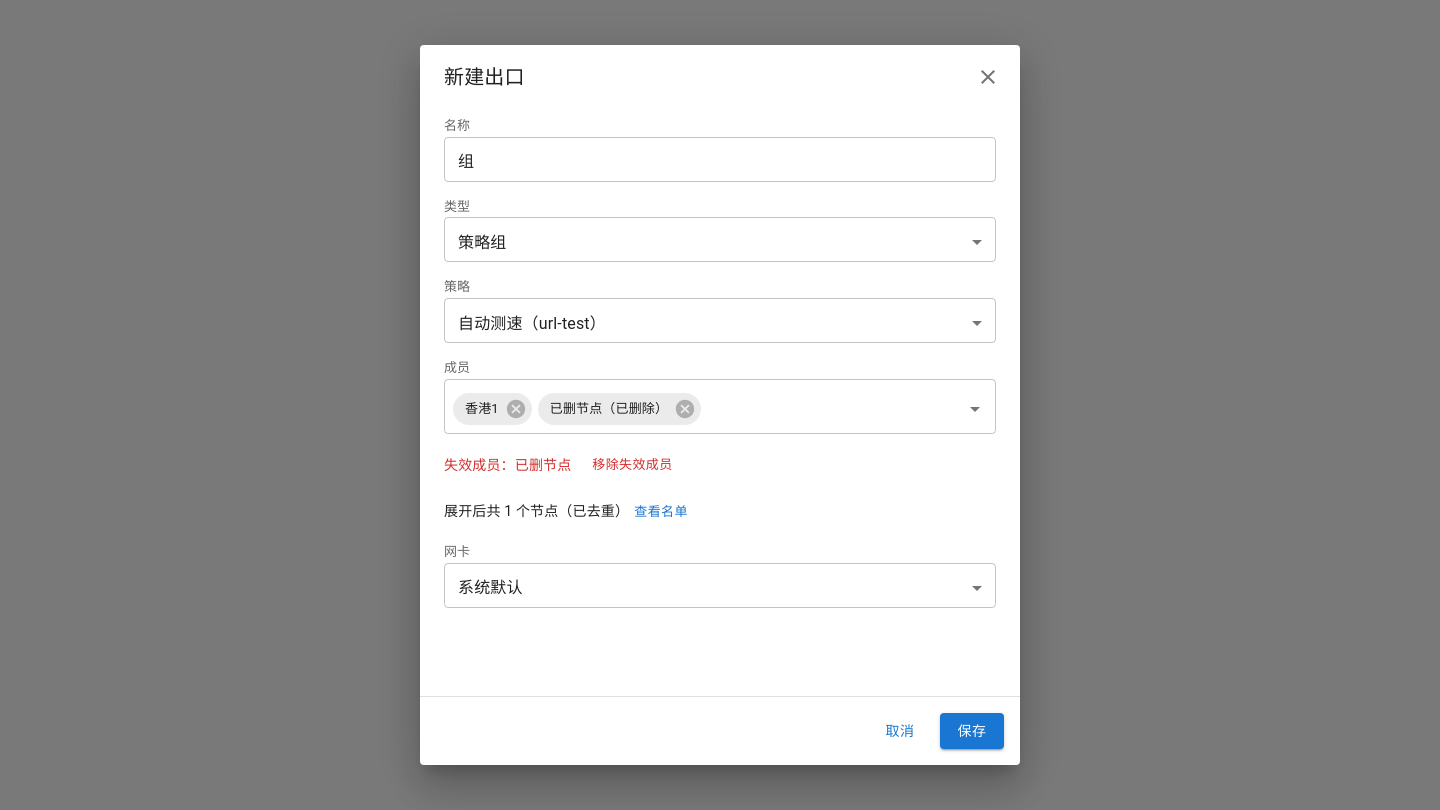
Test: ExitDialog › removes missing members on demand
Check: the text "失效成员：已删节点" is shown, box 444,455 -> 571,475
Click the button "移除失效成员".
click(632, 465)  # box 587,450 -> 678,481
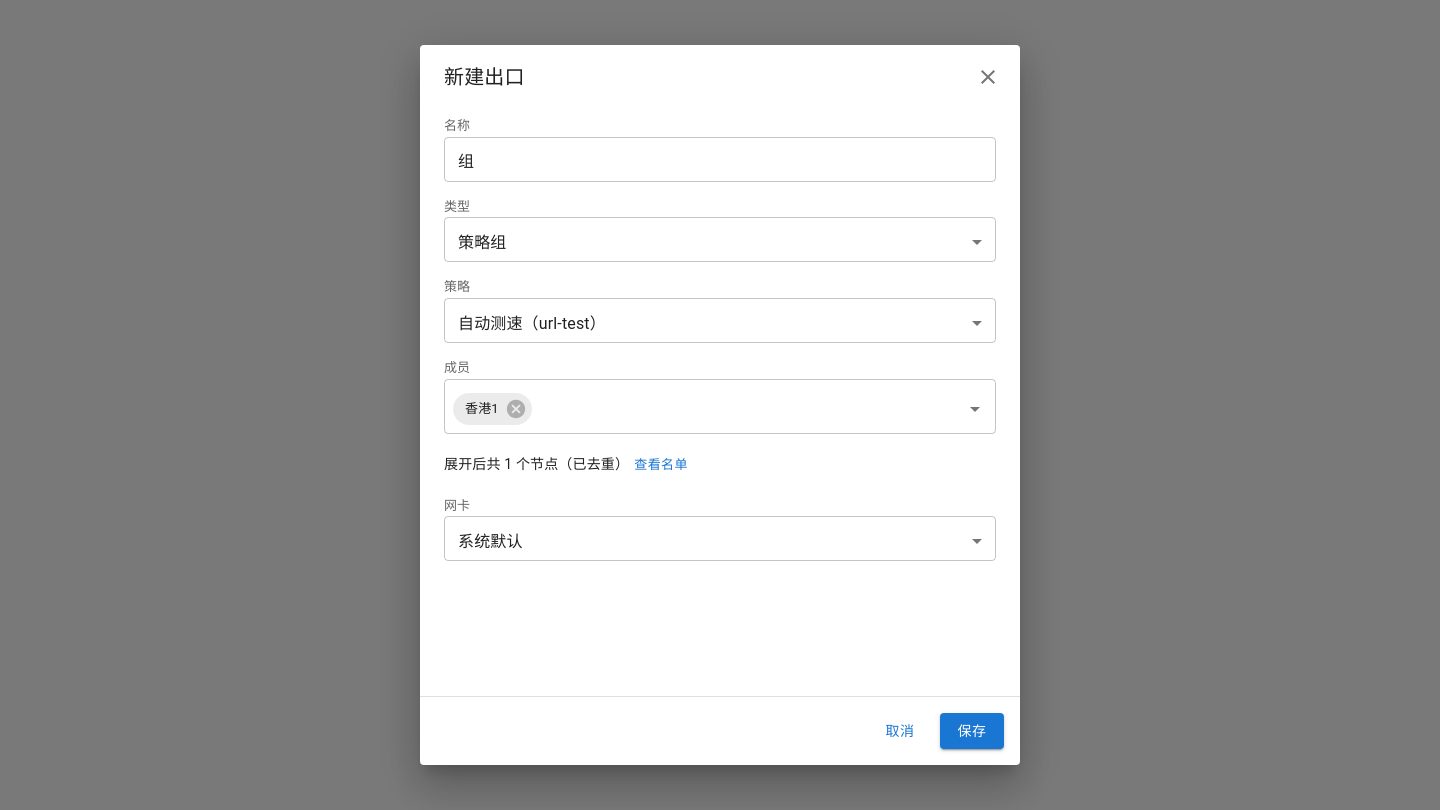
Check: the text "失效成员：" is gone
